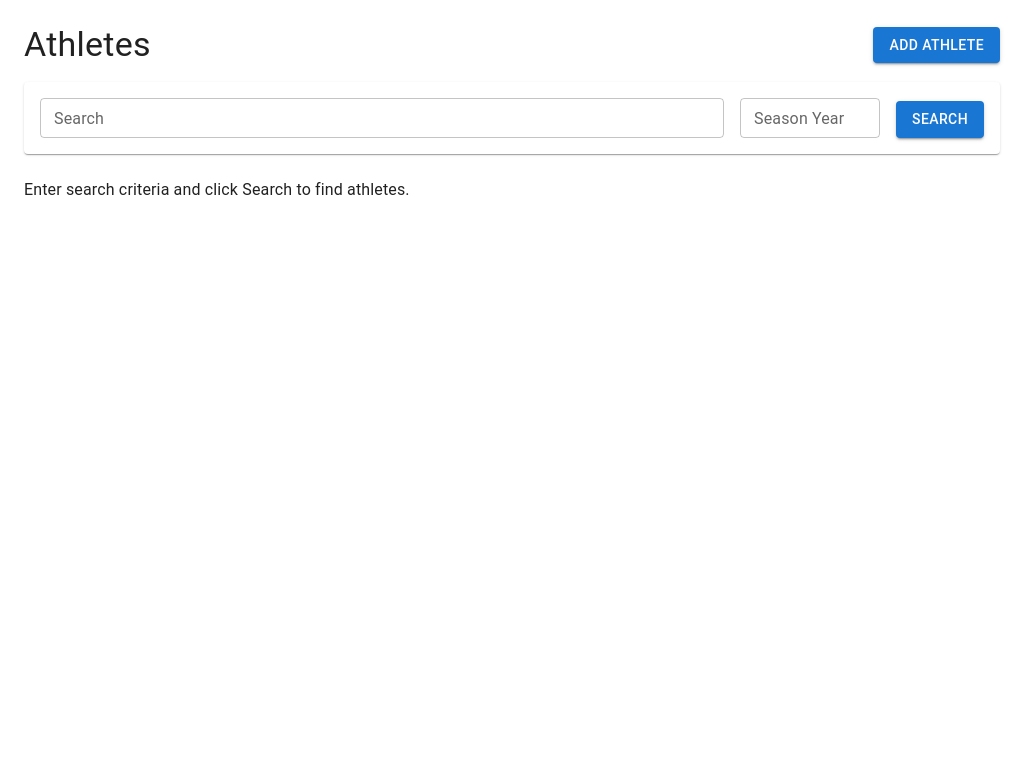
it: Athletes Page › Add Athlete dialog › should show validation error when required fields are empty
Click the button "Add Athlete" at (937, 45), box [874,27,1000,63]
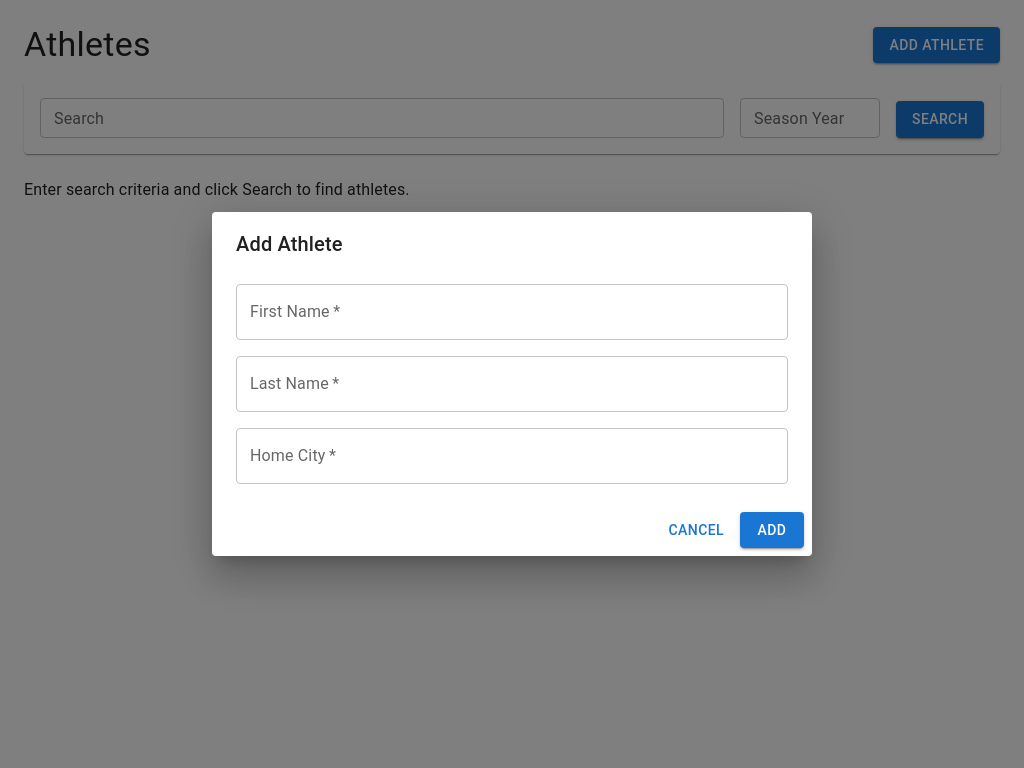
Click the button "Add" at (772, 530), box [740,512,804,548]
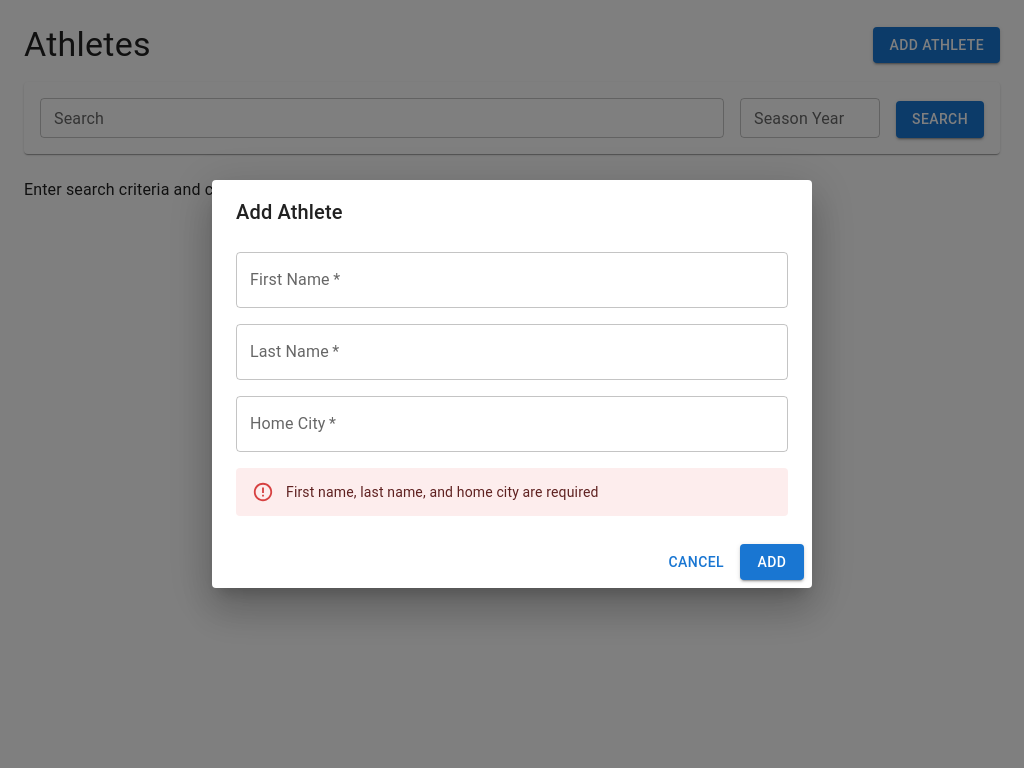
Expected: the text "First name, last name, and home city are required" is shown, [286,484,598,500]
